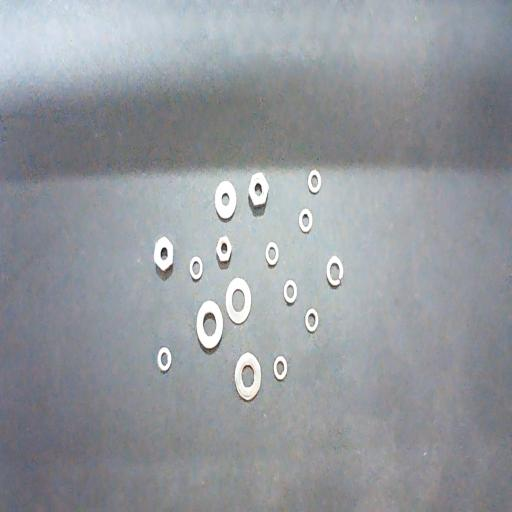nut: (248, 172, 270, 215), (154, 236, 174, 279), (216, 236, 233, 269)
washer: (196, 301, 224, 354), (234, 353, 262, 402), (225, 277, 252, 326), (214, 181, 236, 222), (326, 256, 344, 288), (283, 279, 298, 306), (298, 208, 313, 234), (274, 355, 288, 382), (158, 347, 172, 373), (305, 308, 319, 334), (265, 242, 279, 268), (308, 169, 322, 195), (189, 256, 203, 282)
